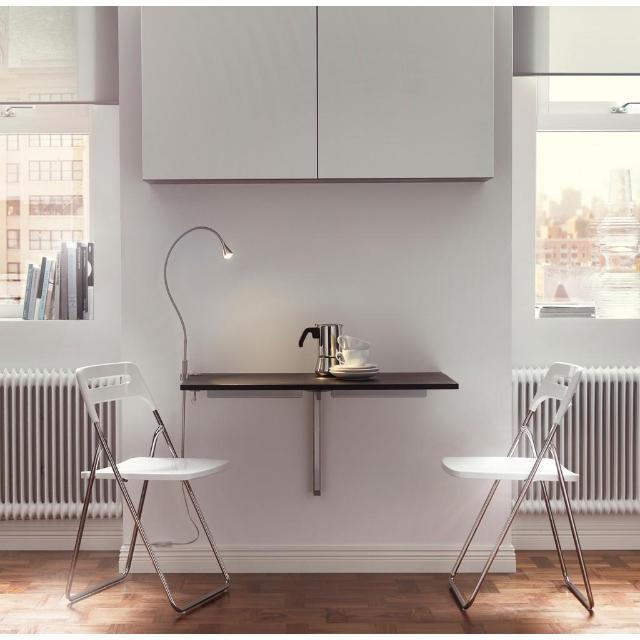chair: (66, 362, 230, 614), (442, 362, 592, 613)
curtain: (0, 6, 119, 104), (514, 6, 640, 75)
lamp: (164, 226, 234, 380)
shelf: (141, 6, 494, 181)
table: (180, 372, 459, 495)
